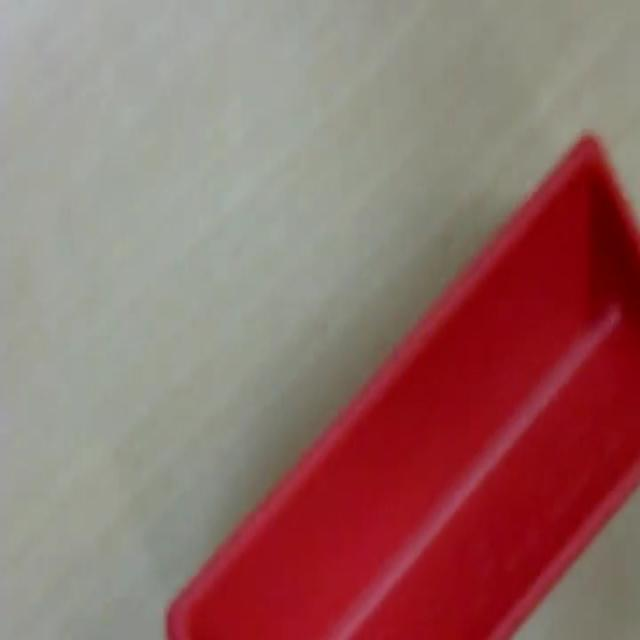red_block: (164, 130, 638, 638)
